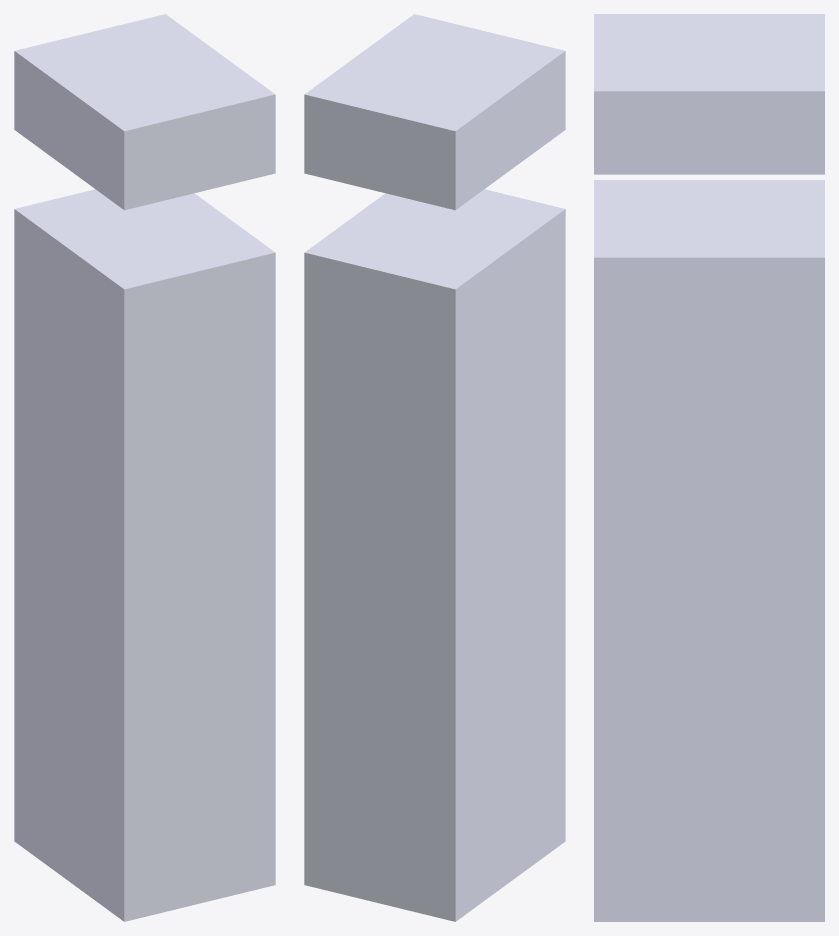
File: I_DeltaBlock_Grey.glb
3 views of the same model, side by side, from view 1: azimuth 30°, elevation 25°; view 2: azimuth 150°, elevation 25°; view 3: azimuth 270°, elevation 25° (orthographic). The views are drawn at different scales.
Parts seen in each view (by area): view 1: i_DeltaBlock_Grey; view 2: i_DeltaBlock_Grey; view 3: i_DeltaBlock_Grey.
Boxes of the visible parts, left/top/right/bottom form: i_DeltaBlock_Grey: left=14, top=14, right=275, bottom=921; i_DeltaBlock_Grey: left=304, top=14, right=565, bottom=921; i_DeltaBlock_Grey: left=594, top=14, right=824, bottom=921.
Size of what is drawn, in the model's own units: 0.0357 by 0.1786 by 0.045.
Materials: 2 (2 with a texture image).
